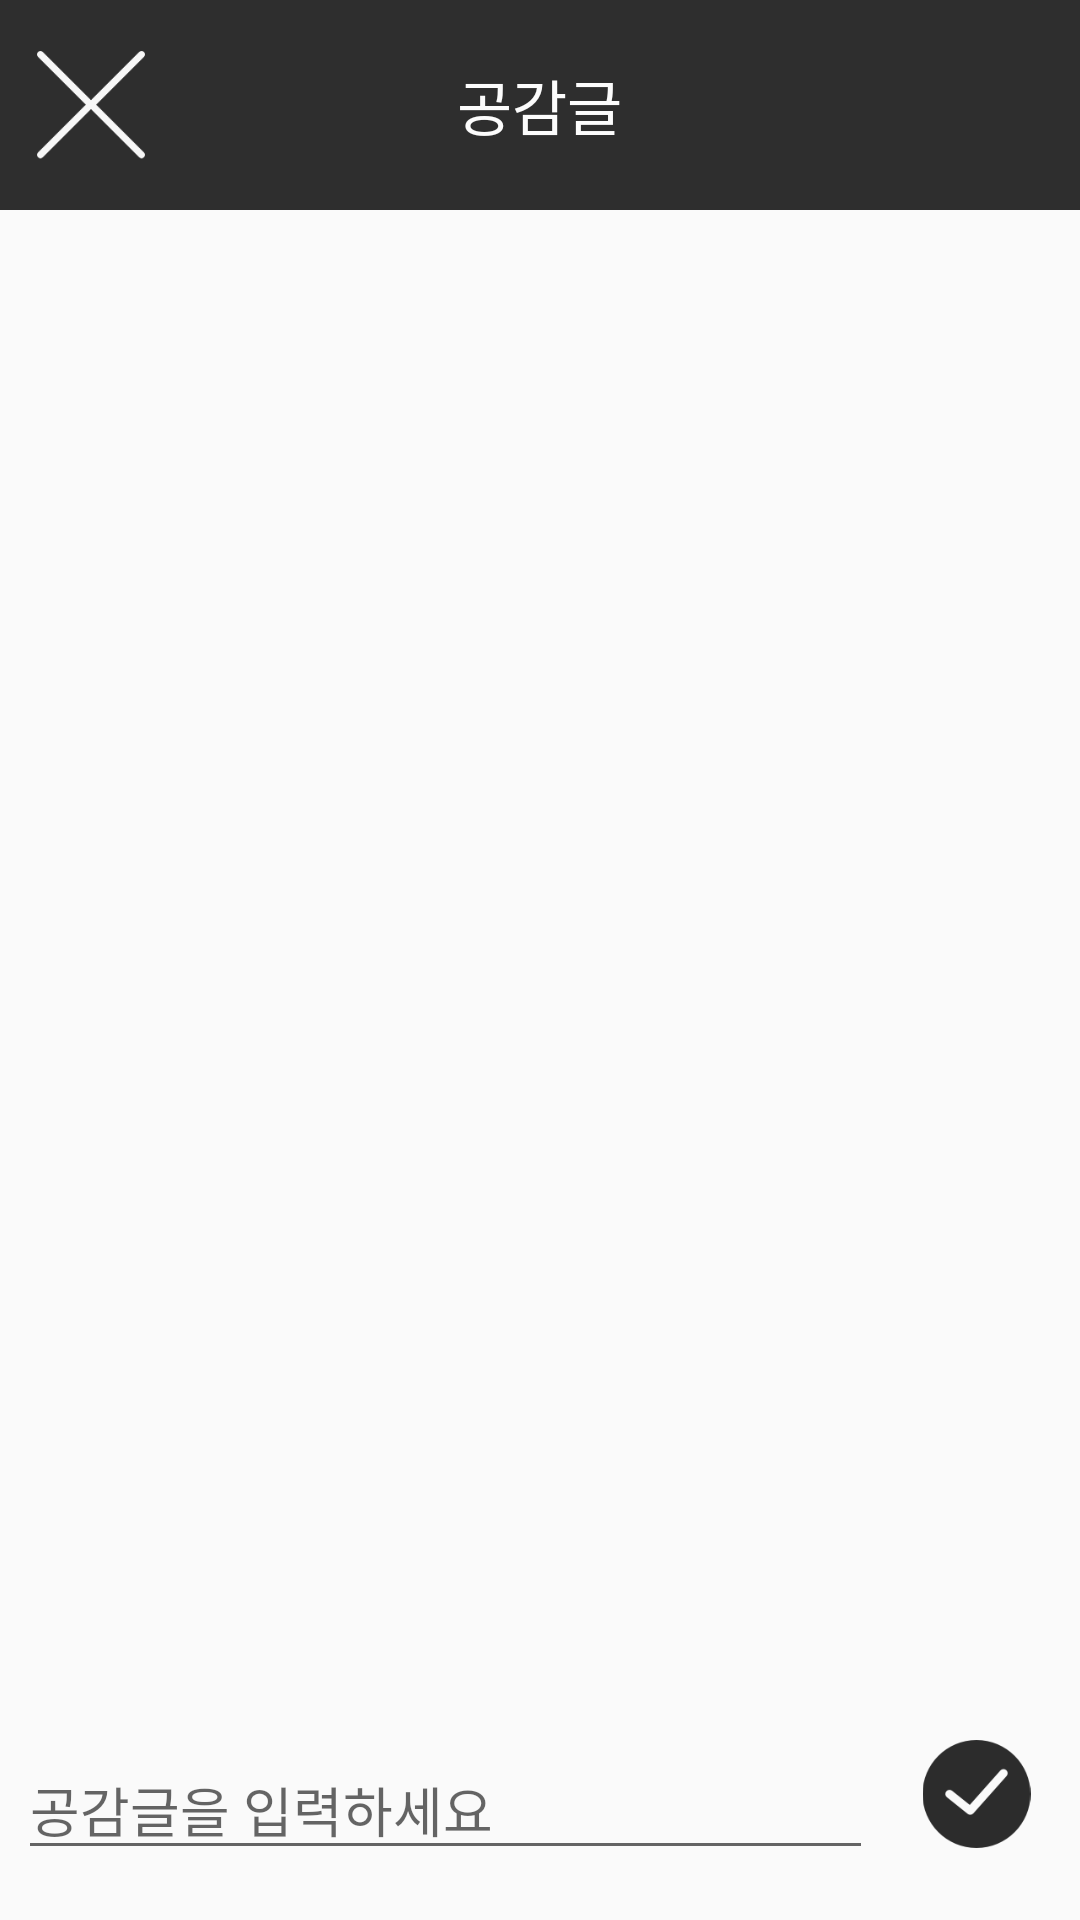

Screen size 1080 x 1920. Icon name, then its center in pixels as point (x, y):
close: point (91, 105)
